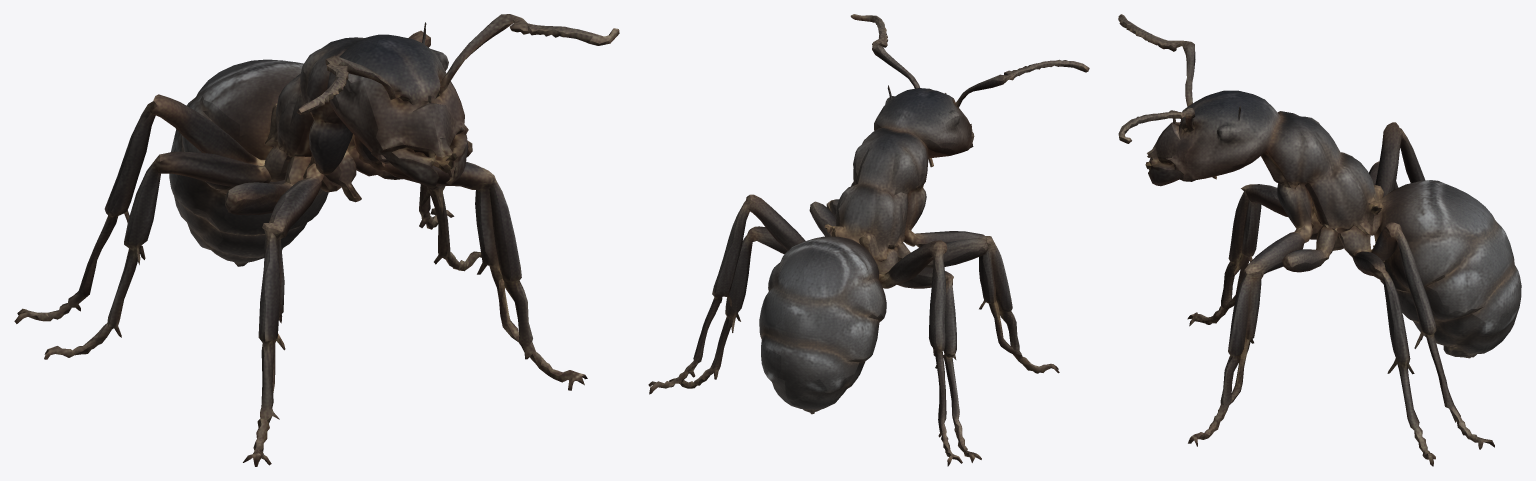
3 views of the same model, side by side, from view 1: azimuth 30°, elevation 25°; view 2: azimuth 150°, elevation 25°; view 3: azimuth 270°, elevation 25° (orthographic). The views are drawn at different scales.
Parts seen in each view (by area): view 1: world; view 2: world; view 3: world.
Boxes of the visible parts, x1,y1,x2,y2 form: world: (14, 14, 619, 466); world: (648, 14, 1089, 466); world: (1118, 14, 1521, 466).
Size of the model in its own units: 0.012 by 0.0104 by 0.0122.
Materials: 1 (1 with a texture image).
